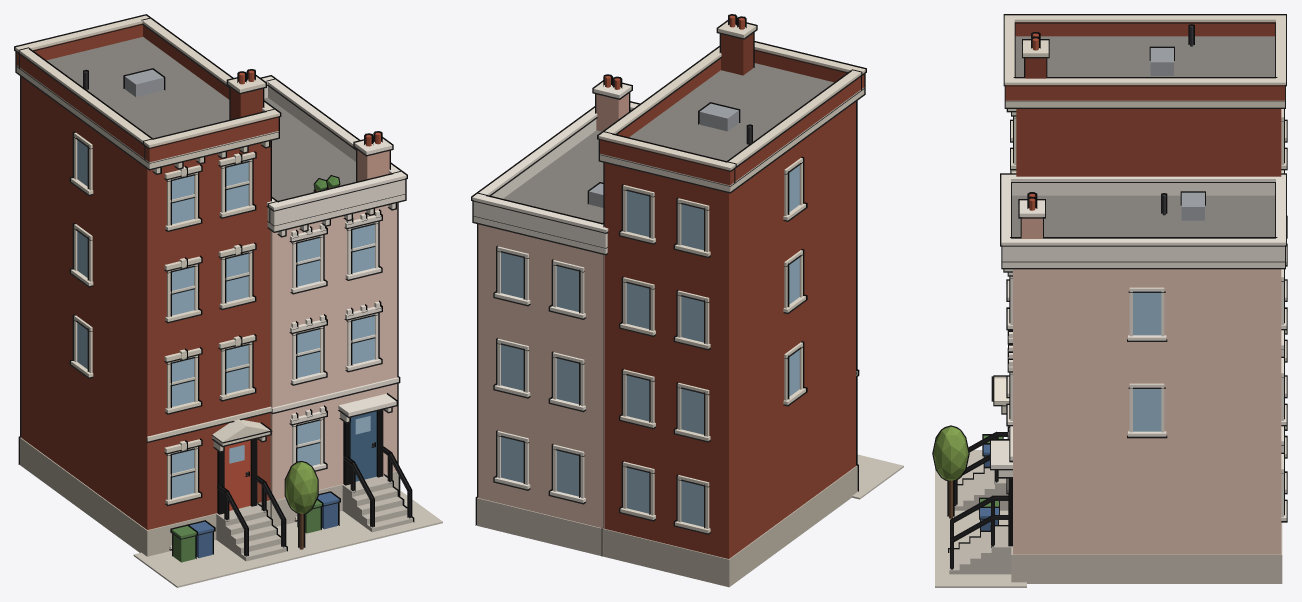
The model's file is SiraEv_karisik_1_2.fbx.
3 renders of one model, left to right at view 1: azimuth 30°, elevation 25°; view 2: azimuth 150°, elevation 25°; view 3: azimuth 270°, elevation 25°, orthographic. The views are drawn at different scales.
Parts seen in each view (by area): view 1: SiraEv_karisik_1_2; view 2: SiraEv_karisik_1_2; view 3: SiraEv_karisik_1_2.
Boxes of the visible parts, <box> form: SiraEv_karisik_1_2: <box>14,14,442,587</box>; SiraEv_karisik_1_2: <box>471,14,903,587</box>; SiraEv_karisik_1_2: <box>932,14,1287,587</box>.
Size of the model in its own units: 9.13 by 14.85 by 10.06.
